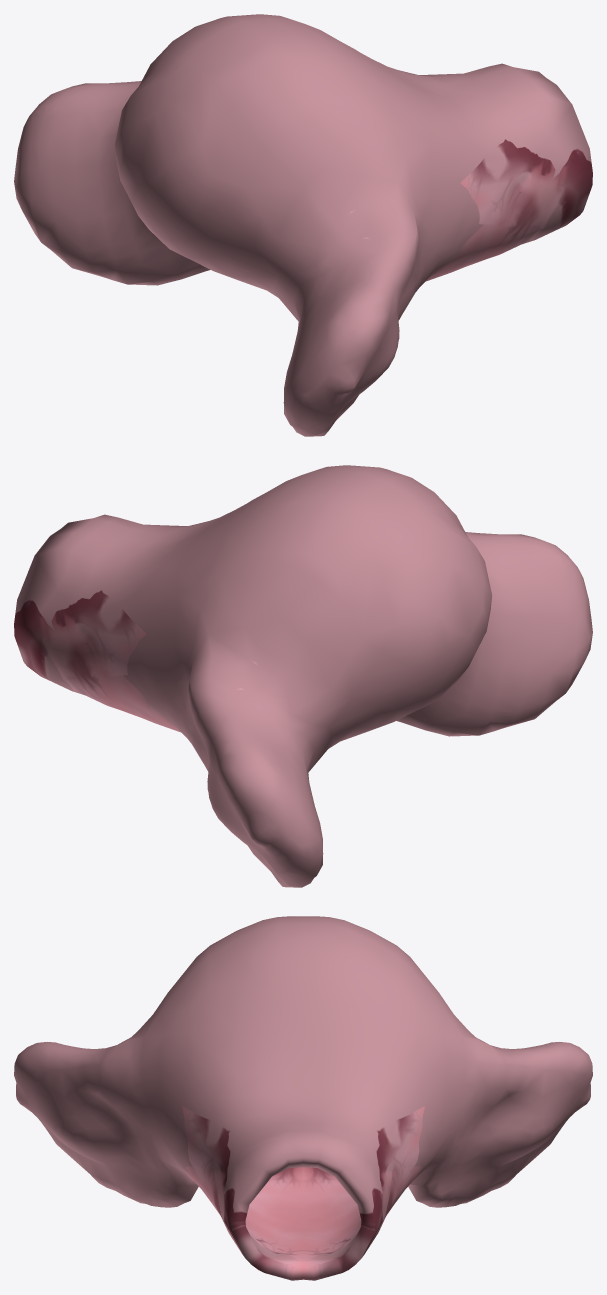
The model's file is Utero 1.fbx.
3 views of the same model, one above another, from view 1: azimuth 30°, elevation 25°; view 2: azimuth 150°, elevation 25°; view 3: azimuth 270°, elevation 25° (orthographic). The views are drawn at different scales.
Parts seen in each view (by area): view 1: lp; view 2: lp; view 3: lp.
Boxes of the visible parts, <box> form: lp: <box>14,14,592,436</box>; lp: <box>14,465,592,887</box>; lp: <box>14,916,592,1280</box>.
Size of the model in its own units: 7367 by 5338 by 9848.
